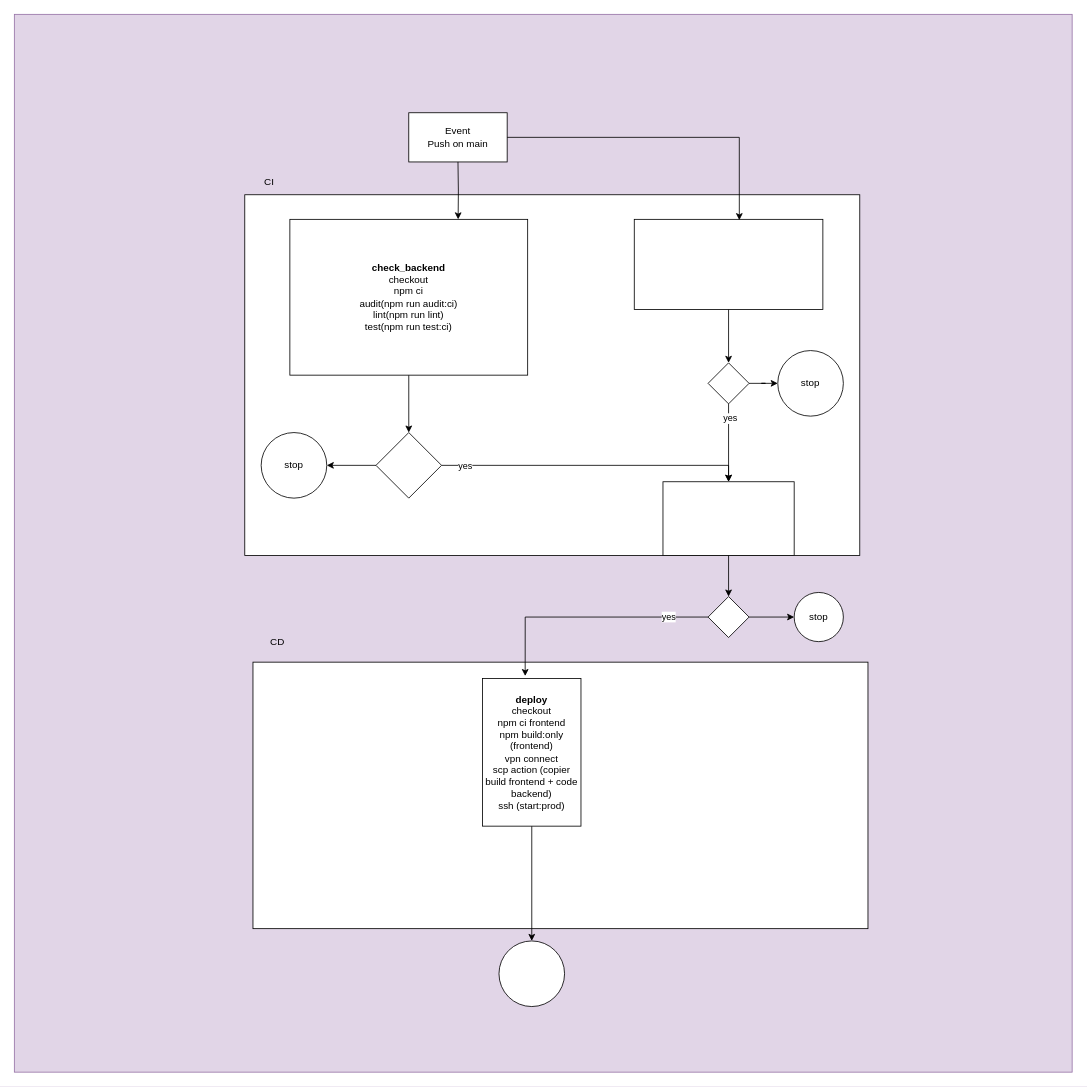
Some shapes in this 1087 by 1087 pixel diagram are drawn without their labels. The centre of each missing label's shape, as x and y in pixels:
"check_front end checkout npm ci audit(npm run audit:ci) lint(npm run lint)" goes at point (728, 264).
"end" goes at point (531, 973).
"test_e2e checkout npm ci backend npm run start:e2e cypress-io action" goes at point (728, 518).
